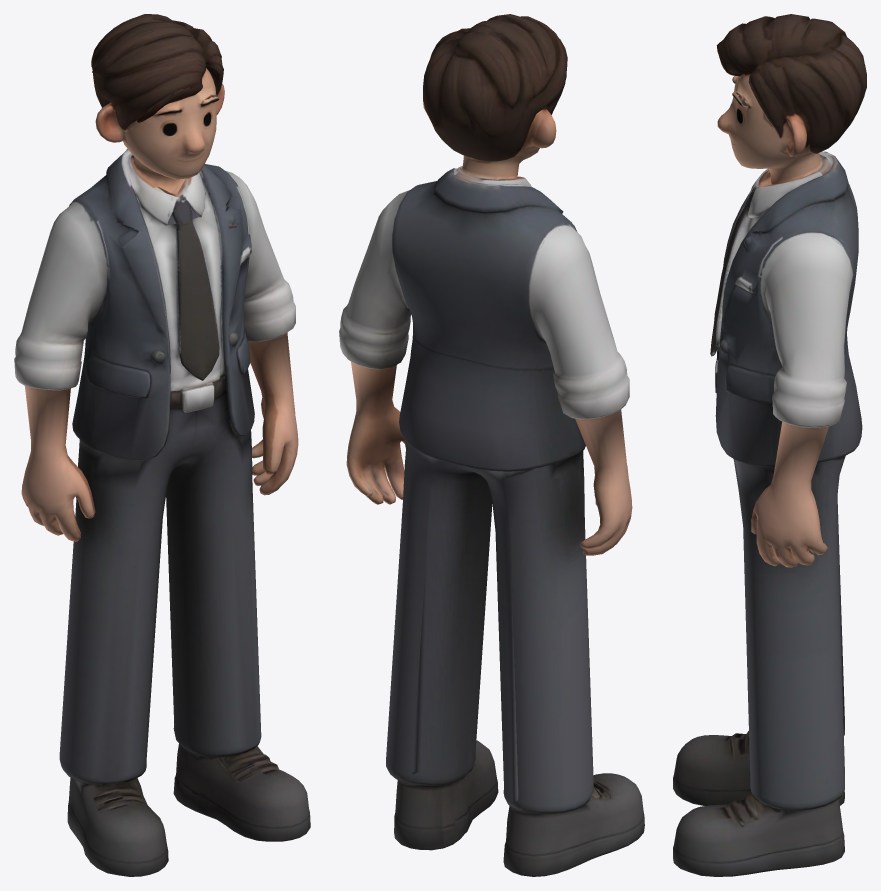
File: atm_realistic_style_7e44bb01_v1.glb
The picture shows the model from 3 angles, left to right: view 1: azimuth 30°, elevation 25°; view 2: azimuth 150°, elevation 25°; view 3: azimuth 270°, elevation 25°; orthographic projection. The views are drawn at different scales.
Visible parts, largest first — view 1: texture_pbr_20250901; view 2: texture_pbr_20250901; view 3: texture_pbr_20250901.
Boxes of the visible parts, x1,y1,x2,y2 form: texture_pbr_20250901: (14, 14, 310, 876); texture_pbr_20250901: (339, 14, 644, 876); texture_pbr_20250901: (673, 14, 866, 876).
Bounding box in the file's own units: 0.6758 × 1.9 × 0.416.
Materials: 1 (1 with a texture image).
